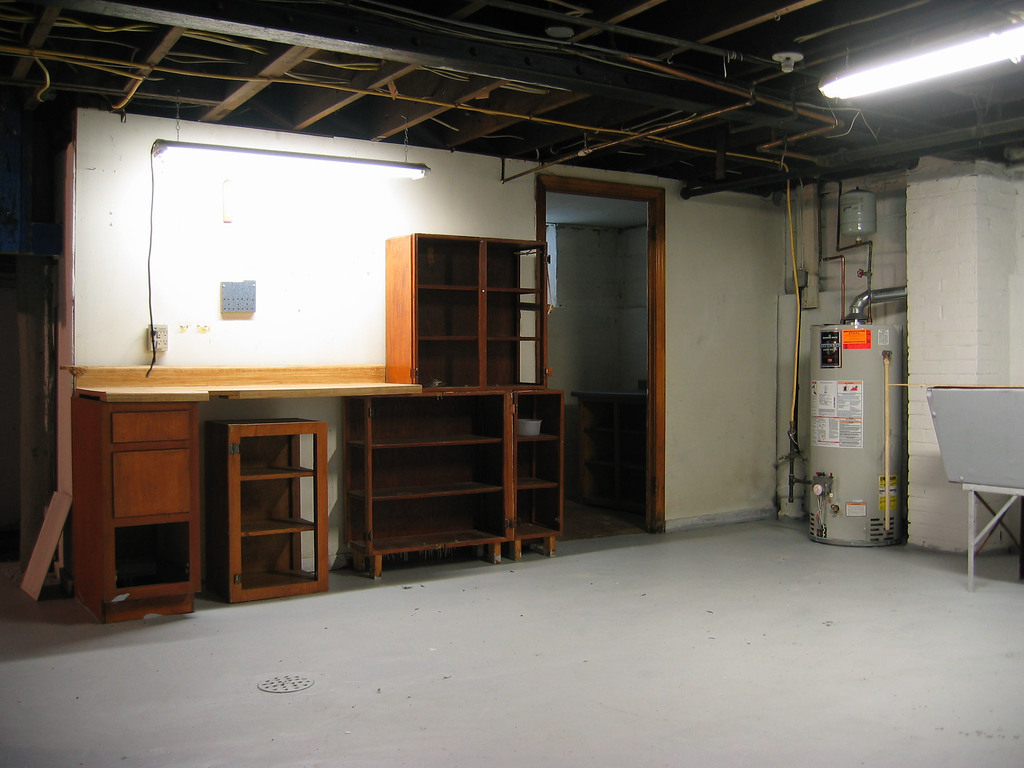cabinet door: (111, 446, 194, 516), (113, 407, 196, 449)
